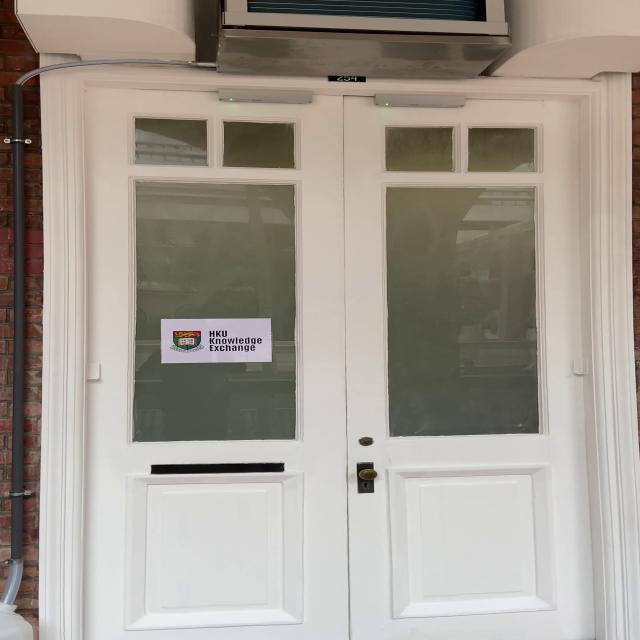room254: (326, 72, 364, 84)
